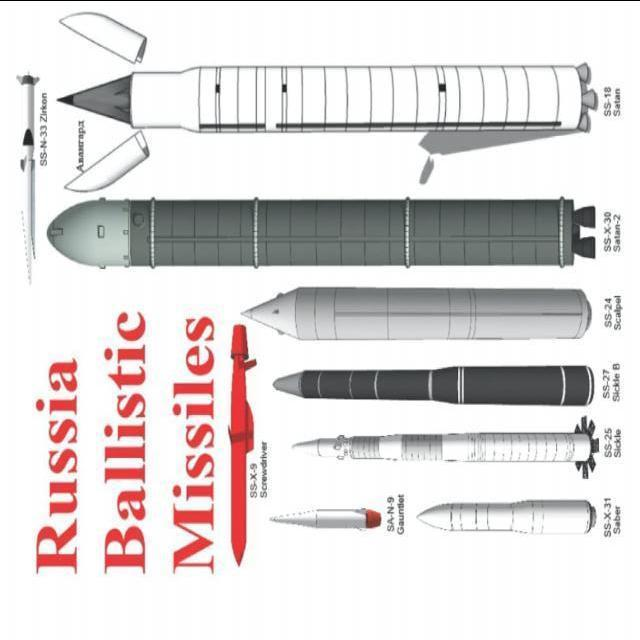Missile: (41, 187, 600, 279), (242, 279, 600, 347), (285, 413, 602, 479), (261, 358, 599, 413), (411, 490, 600, 548), (10, 63, 44, 278), (267, 495, 388, 543)
